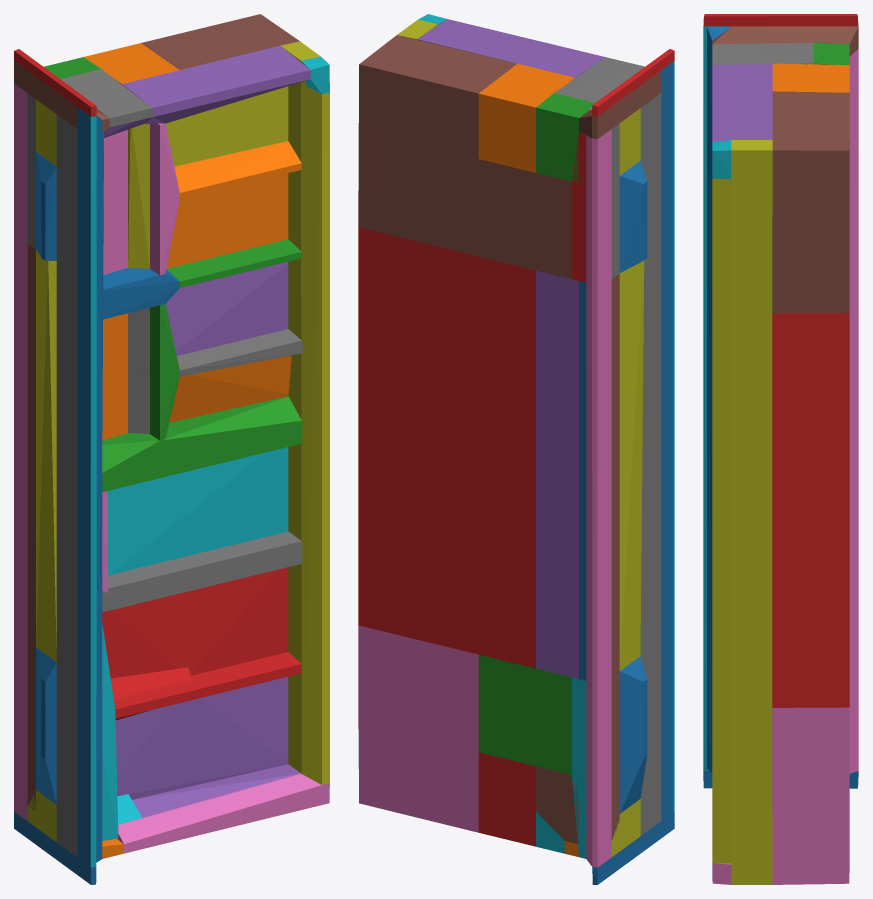
Rendered from Drawer_06_cvx.obj.
3 views of the same model, side by side, from view 1: azimuth 30°, elevation 25°; view 2: azimuth 150°, elevation 25°; view 3: azimuth 270°, elevation 25° (orthographic).
Parts seen in each view (by area): view 1: scenes/apartment_0000_coacd/output/Unknown/Kitchen_Oven/Drawer_0; view 2: scenes/apartment_0000_coacd/output/Unknown/Kitchen_Oven/Drawer_0; view 3: scenes/apartment_0000_coacd/output/Unknown/Kitchen_Oven/Drawer_0.
Boxes of the visible parts, x1=… form: scenes/apartment_0000_coacd/output/Unknown/Kitchen_Oven/Drawer_0: x1=14, y1=14, x2=329, y2=884; scenes/apartment_0000_coacd/output/Unknown/Kitchen_Oven/Drawer_0: x1=358, y1=14, x2=674, y2=884; scenes/apartment_0000_coacd/output/Unknown/Kitchen_Oven/Drawer_0: x1=703, y1=14, x2=858, y2=884.
Bounding box in the file's own units: 0.5654 × 1.66 × 0.303.
